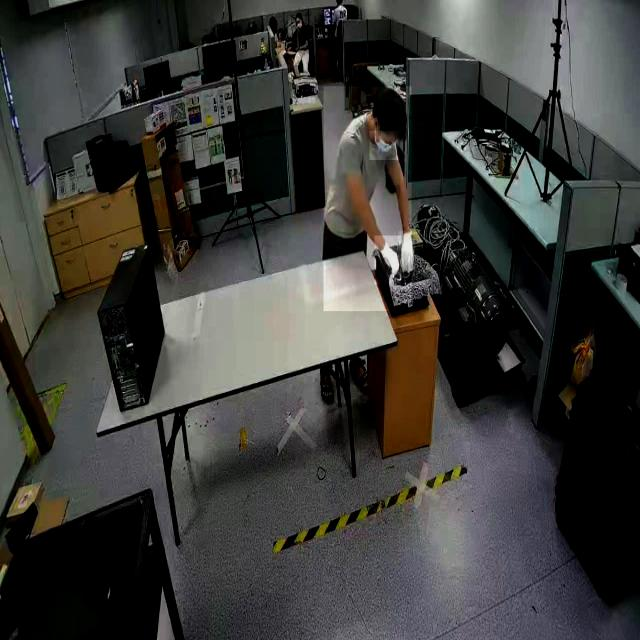face_mask: (369, 131, 398, 160), (296, 16, 304, 31)
hand_glove: (374, 236, 402, 286), (398, 231, 416, 277)
head_nohelmet: (371, 87, 405, 115)
person: (324, 86, 412, 312), (288, 16, 312, 79)
